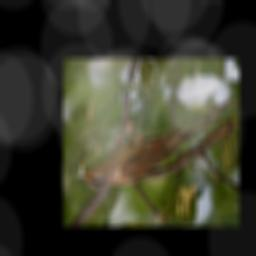Cuckoo: (74, 96, 238, 189)
